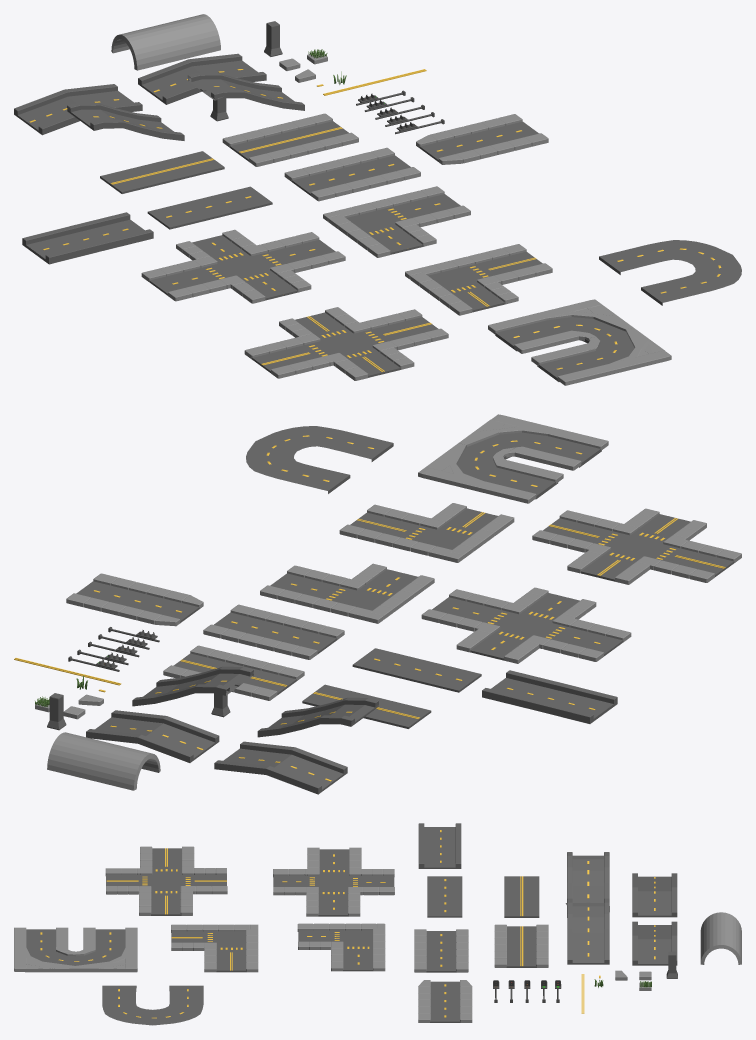
Rendered from LowPolyRoads.fbx.
The picture shows the model from 3 angles, top to bottom: view 1: azimuth 30°, elevation 25°; view 2: azimuth 150°, elevation 25°; view 3: azimuth 270°, elevation 25°; orthographic projection. The views are drawn at different scales.
Visible parts, largest first — view 1: Cube.009, Cube.019, Cube.013, Cube.044, Cube.007, Cube.004, Cube.012, Cube.001, Cube.065, Cylinder, Cube.005, Cube.003 (+5 smaller); view 2: Cube.009, Cube.019, Cube.013, Cube.007, Cube.044, Cube.004, Cube.012, Cube.065, Cylinder, Cube.005, Cube.003, Cube.021 (+5 smaller); view 3: Cube.009, Cube.019, Cube.013, Cube.044, Cube.007, Cube.004, Plane.008, Cube.012, Cube.001, Cube.065, Plane.003, Cube.003 (+5 smaller).
Part boxes in pixels (x1=…): Cube.009: x1=141, y1=229, x2=345, y2=303; Cube.019: x1=244, y1=307, x2=448, y2=380; Cube.013: x1=488, y1=299, x2=671, y2=385; Cube.044: x1=323, y1=186, x2=470, y2=257; Cube.007: x1=405, y1=244, x2=552, y2=315; Cube.004: x1=599, y1=240, x2=741, y2=305; Cube.012: x1=284, y1=147, x2=420, y2=201; Cube.001: x1=222, y1=113, x2=358, y2=166; Cube.065: x1=416, y1=114, x2=548, y2=164; Cylinder: x1=111, y1=14, x2=220, y2=70; Cube.005: x1=22, y1=212, x2=153, y2=264; Cube.003: x1=14, y1=84, x2=142, y2=135; Cube.009: x1=421, y1=587, x2=631, y2=663; Cube.019: x1=532, y1=508, x2=741, y2=584; Cube.013: x1=418, y1=414, x2=608, y2=503; Cube.007: x1=339, y1=503, x2=514, y2=562; Cube.044: x1=260, y1=563, x2=434, y2=623; Cube.004: x1=246, y1=426, x2=393, y2=493; Cube.012: x1=203, y1=604, x2=344, y2=659; Cube.065: x1=66, y1=573, x2=203, y2=626; Cylinder: x1=47, y1=732, x2=160, y2=790; Cube.005: x1=482, y1=670, x2=617, y2=723; Cube.003: x1=214, y1=741, x2=347, y2=794; Cube.021: x1=86, y1=710, x2=219, y2=762; Cube.009: x1=273, y1=847, x2=394, y2=916; Cube.019: x1=105, y1=846, x2=227, y2=915; Cube.013: x1=14, y1=927, x2=137, y2=972; Cube.044: x1=297, y1=923, x2=385, y2=971; Cube.007: x1=171, y1=924, x2=258, y2=972; Cube.004: x1=102, y1=985, x2=203, y2=1025; Plane.008: x1=565, y1=898, x2=609, y2=964; Cube.012: x1=414, y1=929, x2=468, y2=972; Cube.001: x1=494, y1=924, x2=548, y2=967; Cube.065: x1=418, y1=980, x2=472, y2=1022; Plane.003: x1=567, y1=852, x2=609, y2=917; Cube.003: x1=632, y1=873, x2=677, y2=917.
Size of what is drawn, in the model's own units: 1029 by 77.86 by 1574.
